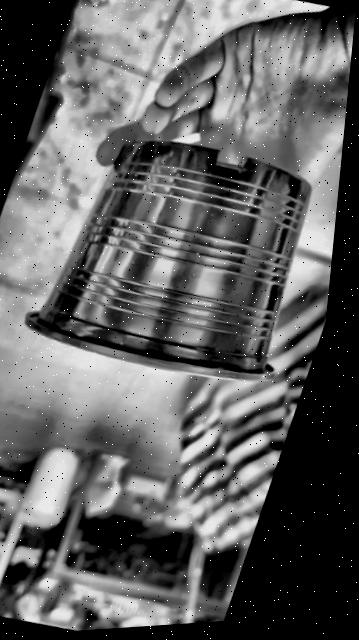pot: (25, 142, 310, 380)
